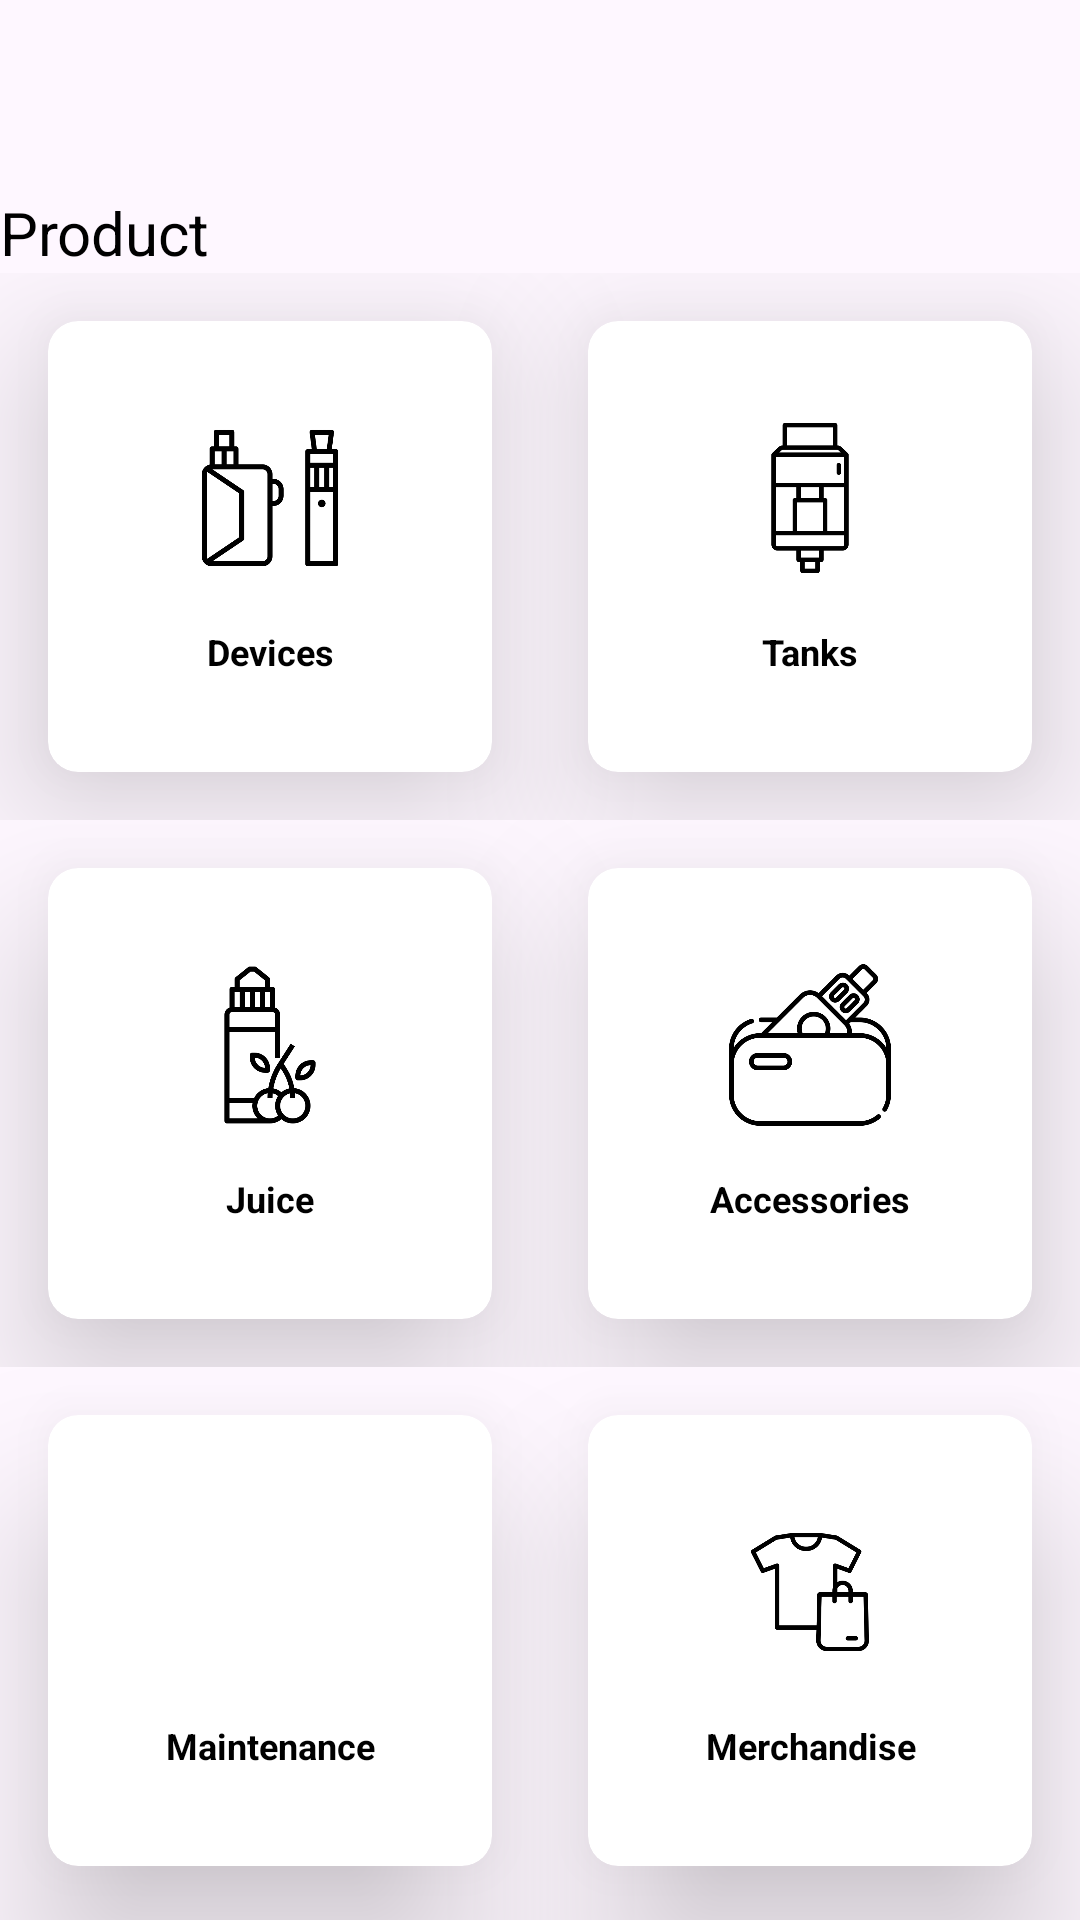

Locate icon controls on the screen. Image size 1080px x 1920px, boxes as (x1, y1, x2, y2).
merchandising: (751, 1533, 869, 1651)
